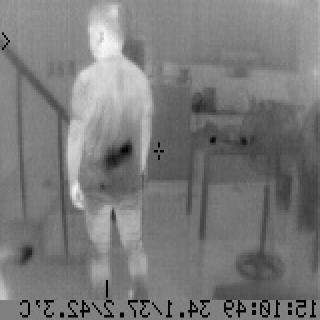Gun: (102, 138, 132, 178)
